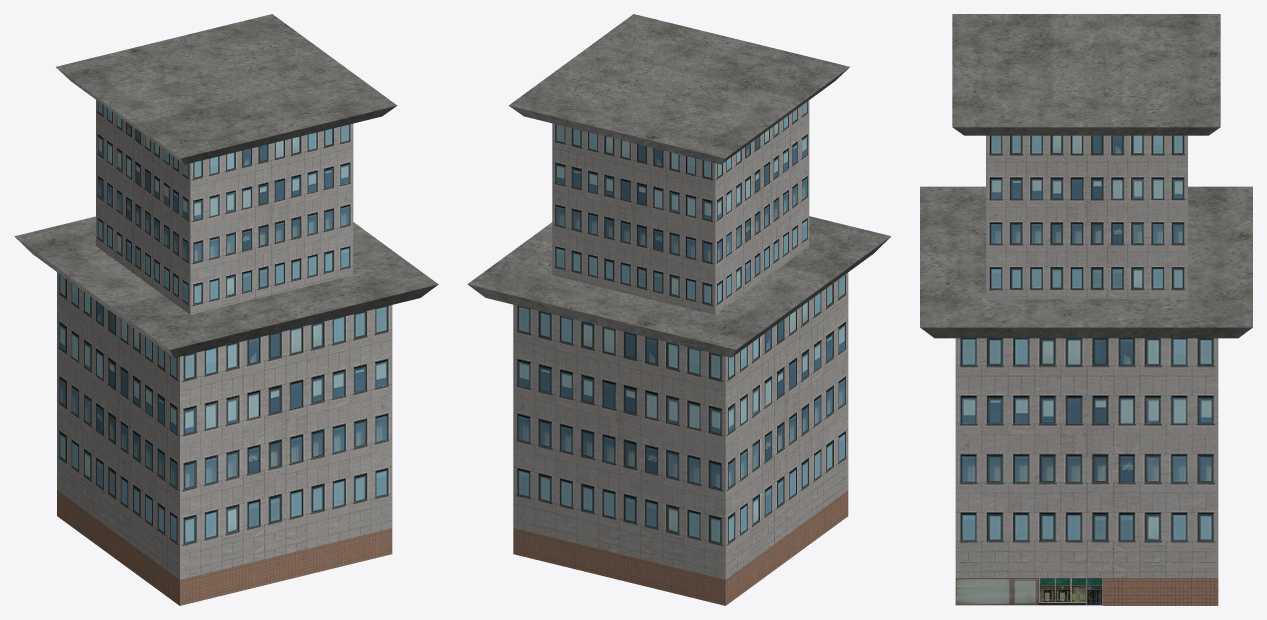
The model's file is Building013.fbx.
The picture shows the model from 3 angles, left to right: view 1: azimuth 30°, elevation 25°; view 2: azimuth 150°, elevation 25°; view 3: azimuth 270°, elevation 25°; orthographic projection. The views are drawn at different scales.
Parts seen in each view (by area): view 1: Building013; view 2: Building013; view 3: Building013.
Boxes of the visible parts, box(x1,y1,x2,y2) form: Building013: box(14, 14, 438, 605); Building013: box(467, 14, 891, 605); Building013: box(920, 14, 1252, 605).
Size of the model in its own units: 36.1 by 57.51 by 36.1.
